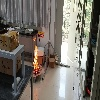fire: (33, 44, 40, 73), (33, 36, 36, 41)
